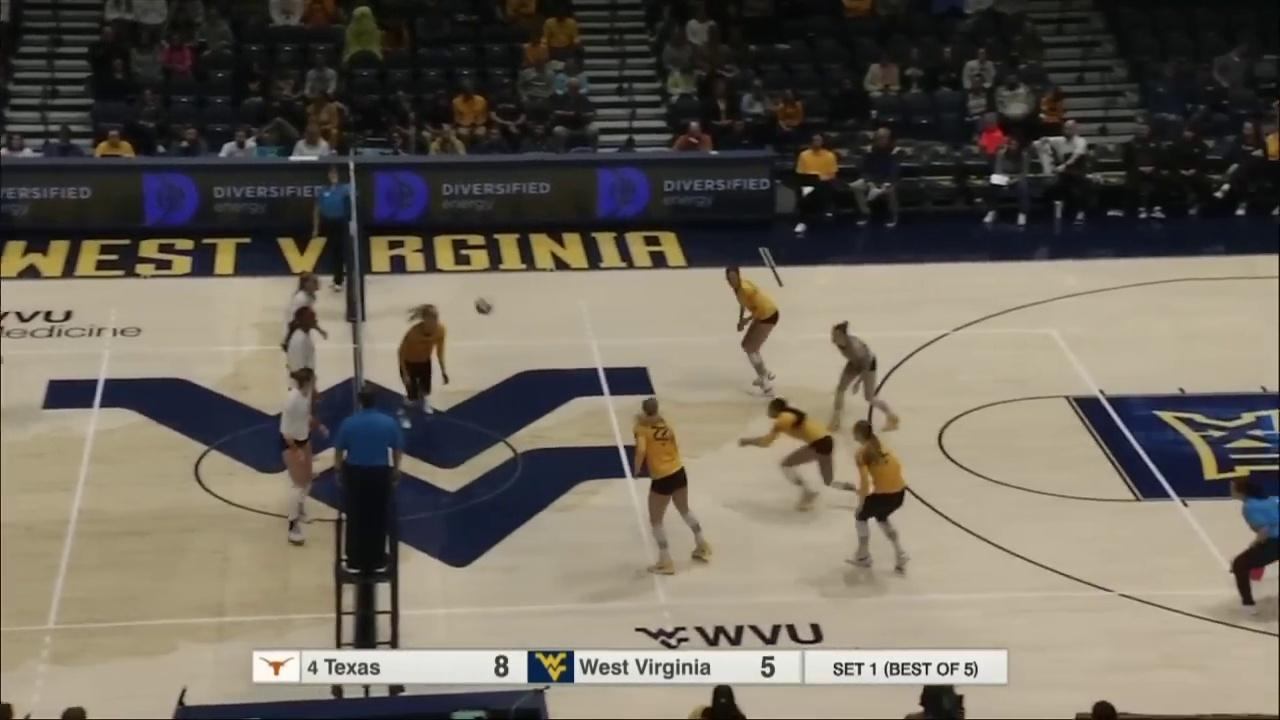player: (628, 398, 716, 572), (741, 395, 875, 508), (843, 422, 912, 575), (272, 369, 324, 545), (826, 322, 898, 430), (725, 267, 782, 398), (279, 267, 330, 411), (395, 304, 449, 427), (284, 306, 321, 479)
refree: (332, 383, 405, 577), (1223, 475, 1280, 619), (313, 172, 354, 292)
